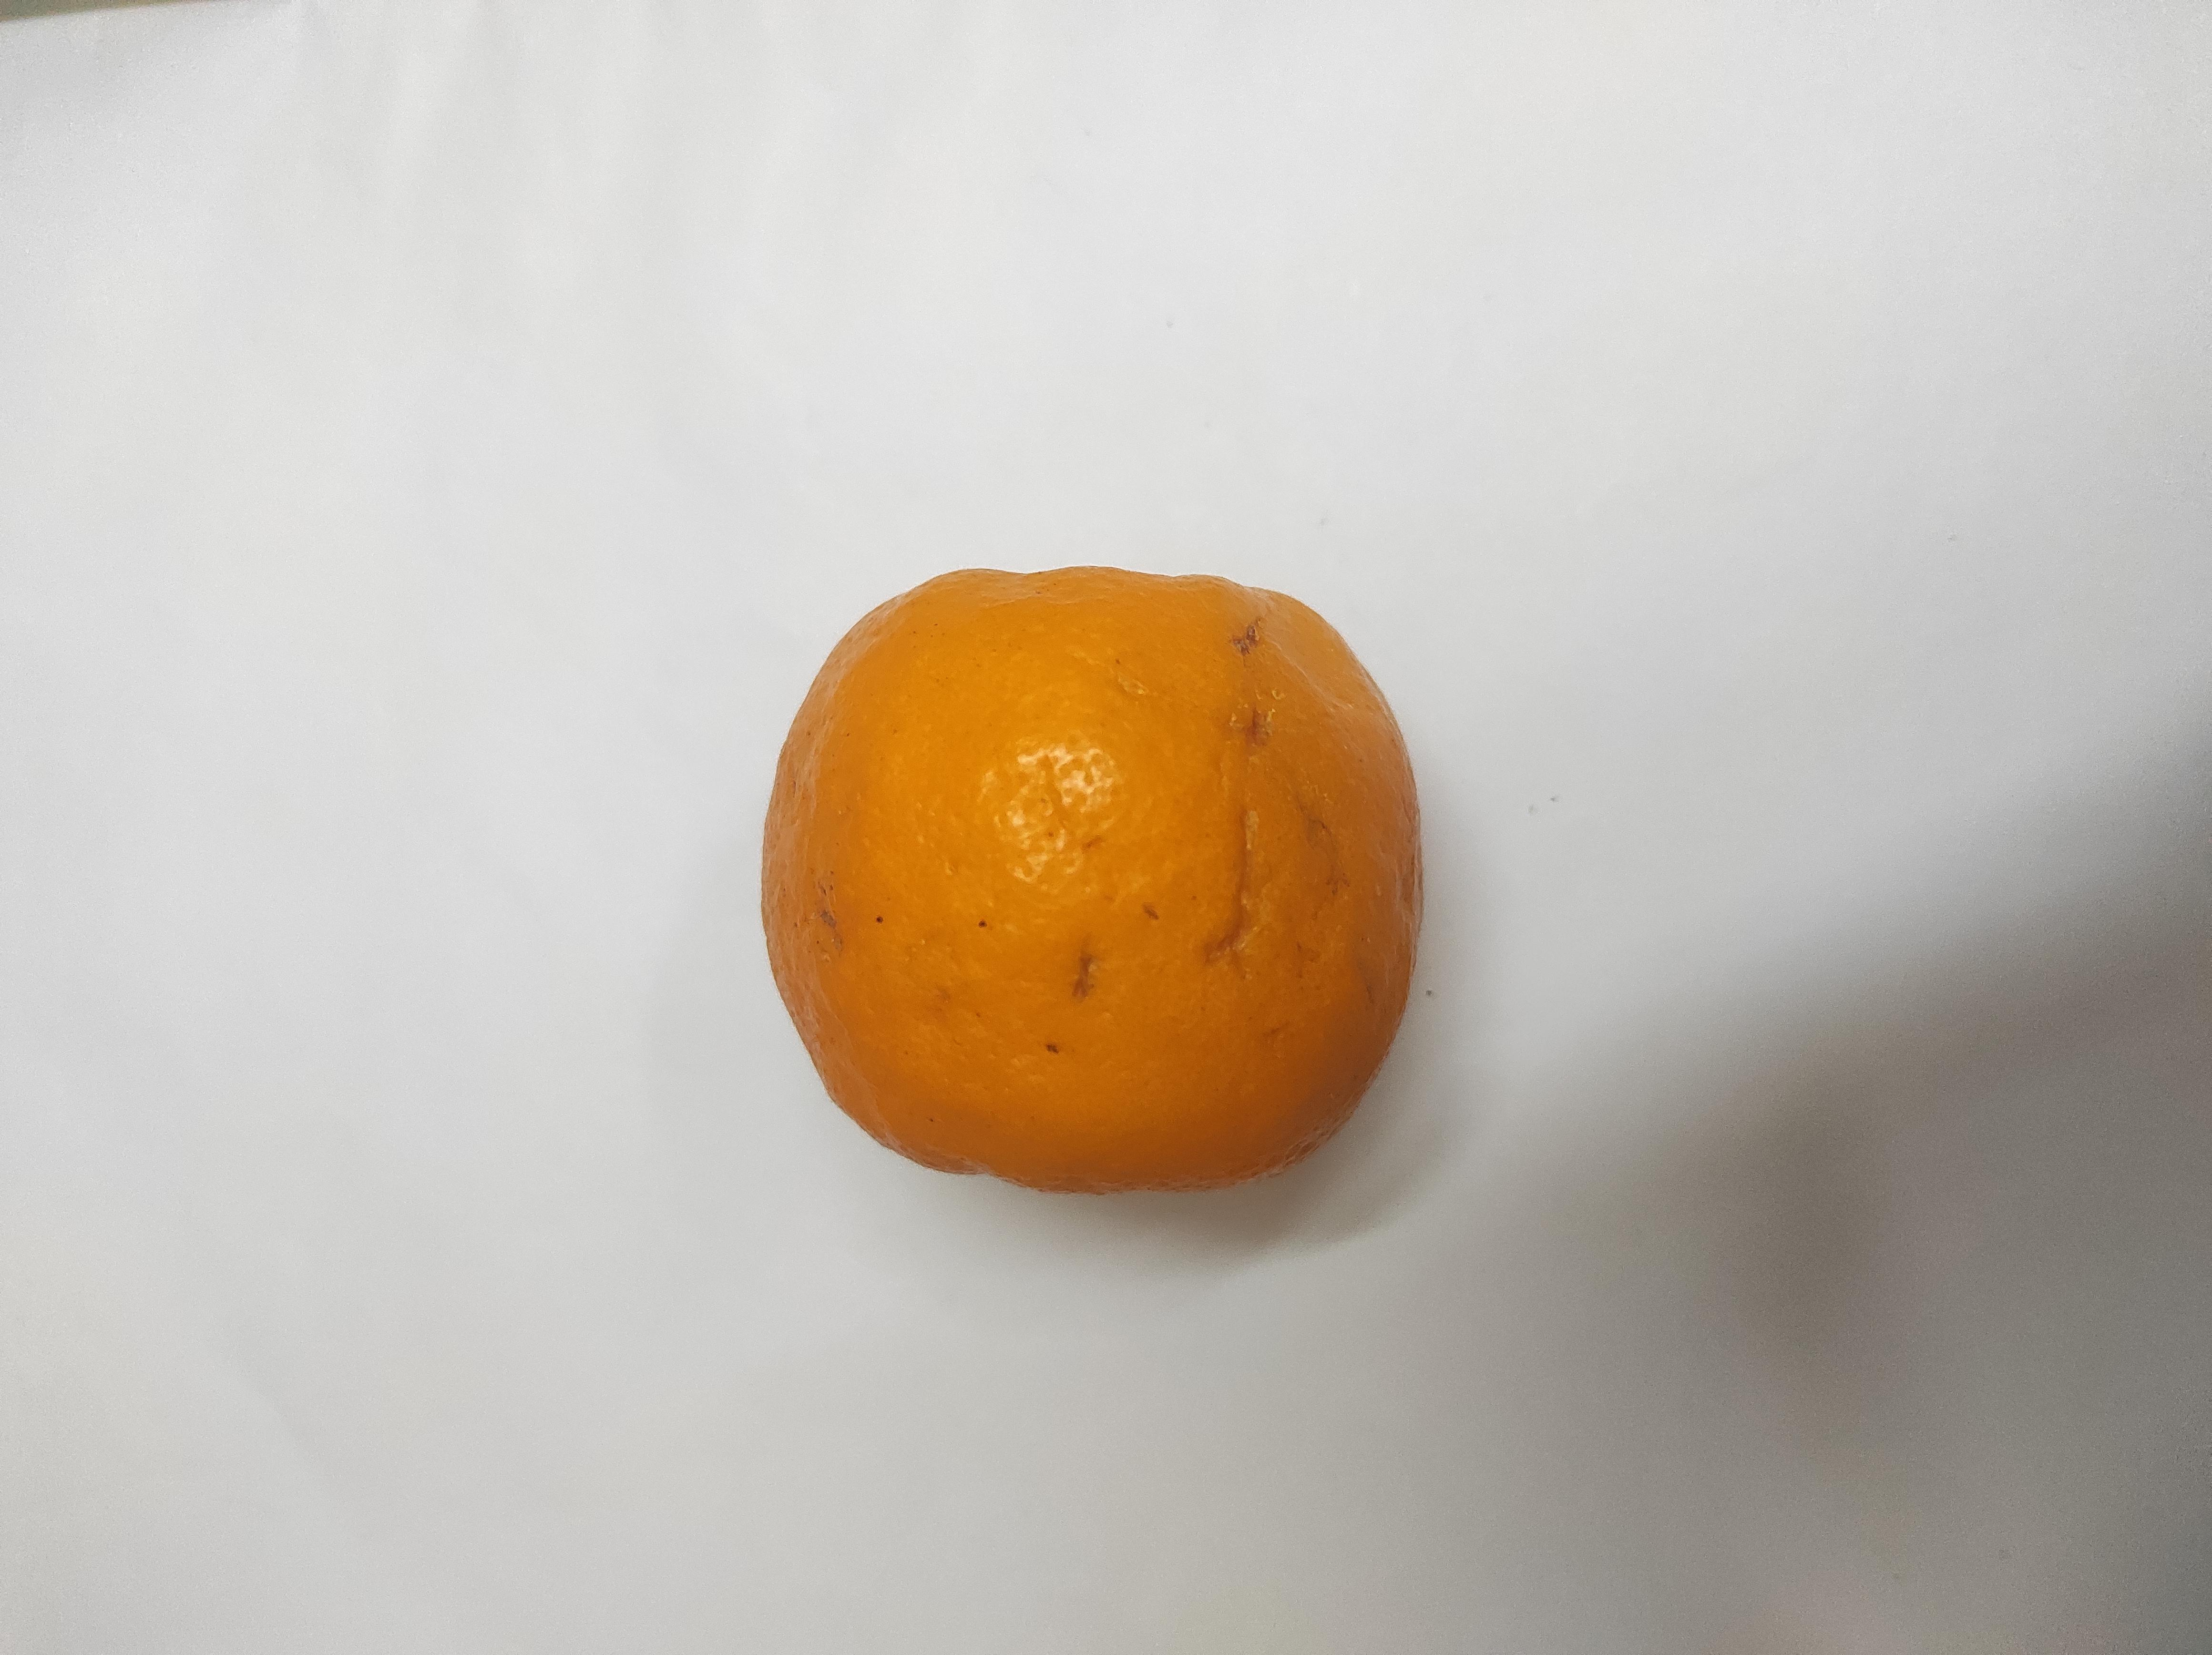Unripe: (763, 567, 1421, 1191)
